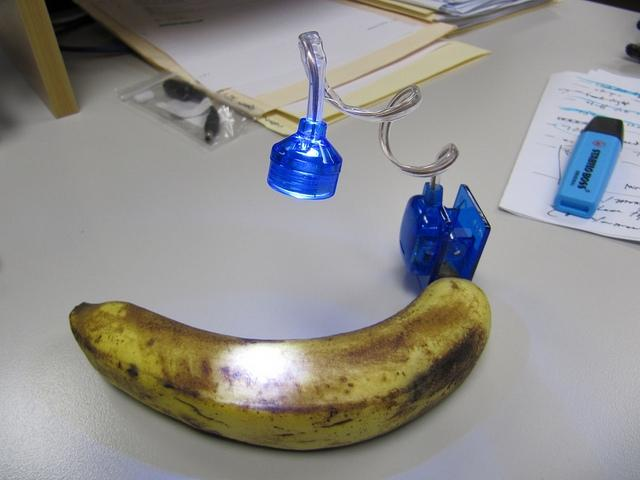banana: (69, 278, 492, 450)
